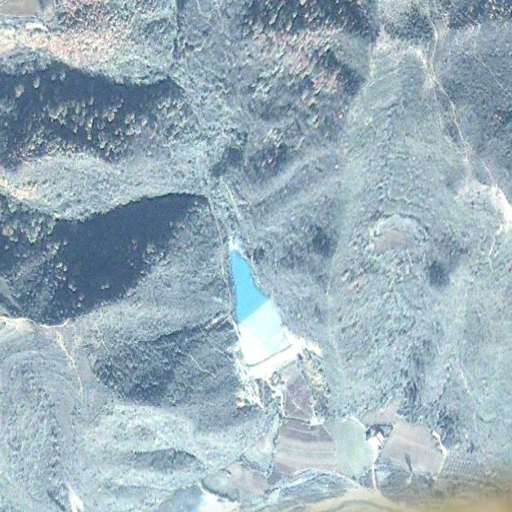tp: (225, 236, 326, 427)
